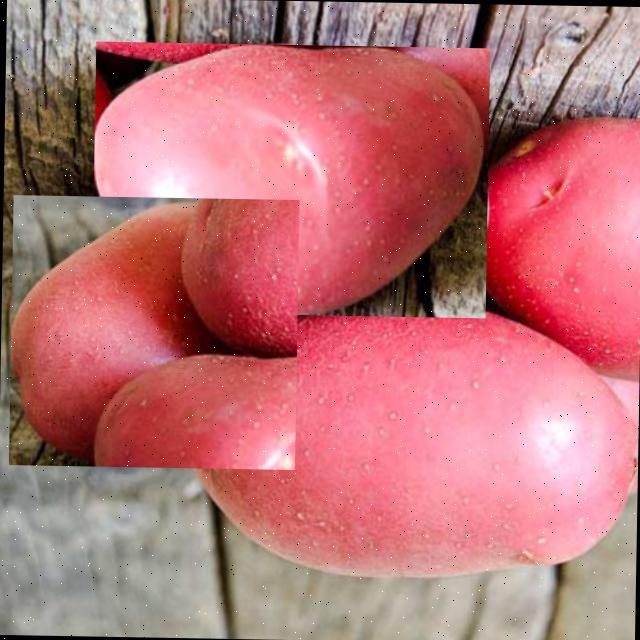Defected potato: (90, 40, 489, 317), (8, 194, 298, 468), (467, 112, 640, 377)
